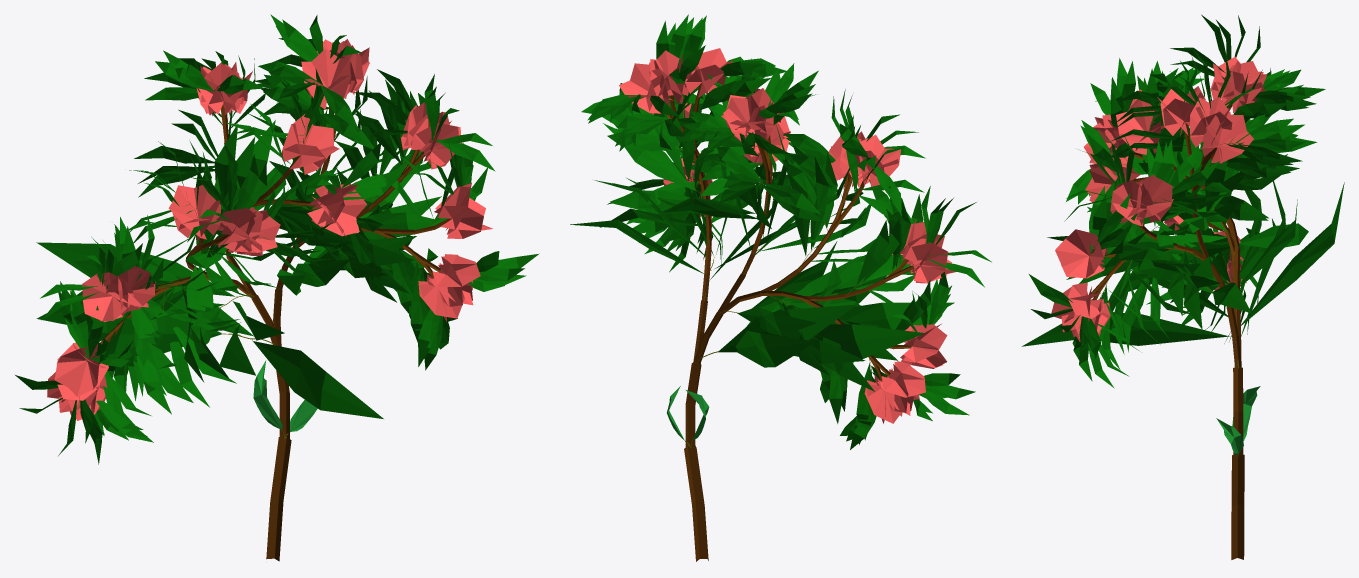
The model's file is plants1.obj.
The picture shows the model from 3 angles, left to right: view 1: azimuth 30°, elevation 25°; view 2: azimuth 150°, elevation 25°; view 3: azimuth 270°, elevation 25°; orthographic projection. The views are drawn at different scales.
Parts seen in each view (by area): view 1: 1coral-li; view 2: 1coral-li; view 3: 1coral-li.
Part boxes in pixels (x1,y1,x2,y2): 1coral-li: (15,14,539,561); 1coral-li: (570,14,991,561); 1coral-li: (1022,14,1344,559).
Bounding box in the file's own units: 692 × 829 × 465.
